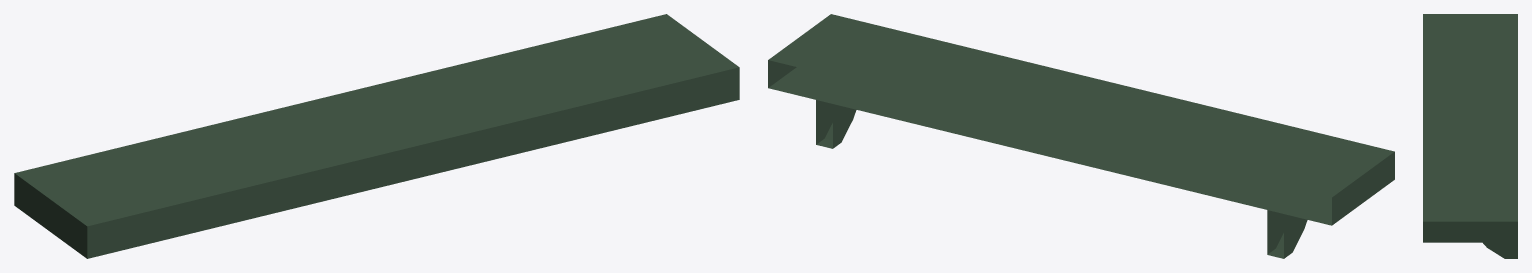
The model's file is Scaffale.fbx.
The picture shows the model from 3 angles, left to right: view 1: azimuth 30°, elevation 25°; view 2: azimuth 150°, elevation 25°; view 3: azimuth 270°, elevation 25°; orthographic projection. The views are drawn at different scales.
Parts seen in each view (by area): view 1: Cube.040; view 2: Cube.040; view 3: Cube.040.
Part boxes in pixels (bbox=[...]): Cube.040: bbox=[14, 14, 739, 258]; Cube.040: bbox=[768, 14, 1394, 258]; Cube.040: bbox=[1423, 14, 1517, 258].
Size of the model in its own units: 200 by 24.77 by 38.67.
